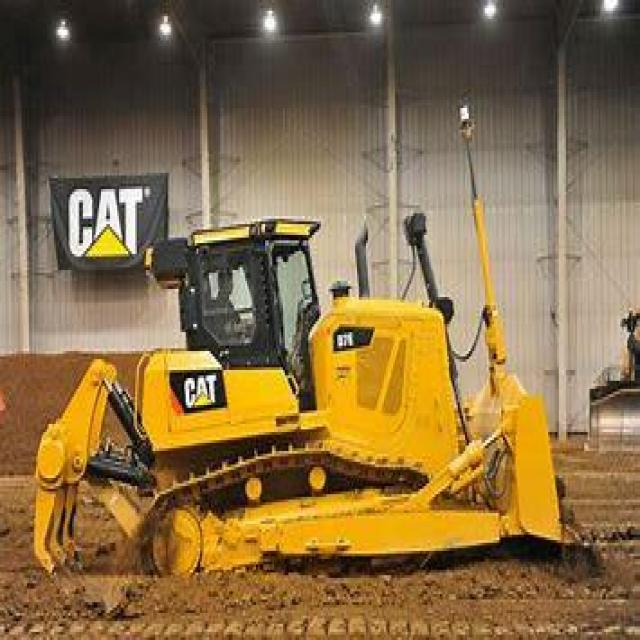Bulldozer: (27, 170, 590, 583)
